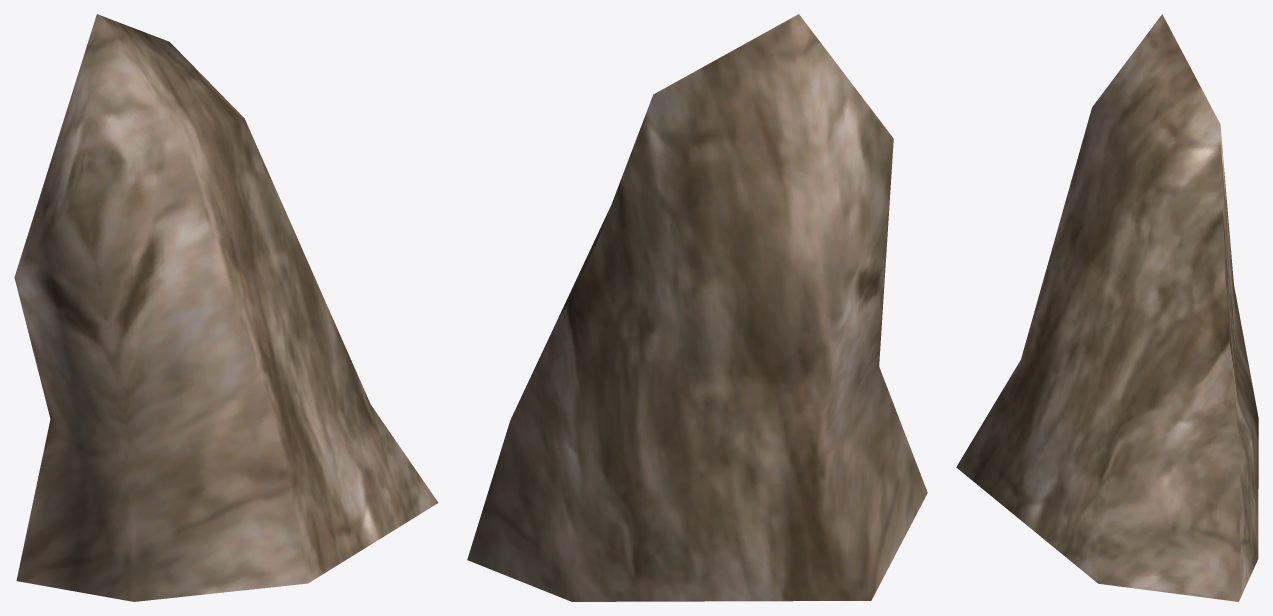
Rendered from OVERHILL_A_01_ROCK37.fbx.
The picture shows the model from 3 angles, left to right: view 1: azimuth 30°, elevation 25°; view 2: azimuth 150°, elevation 25°; view 3: azimuth 270°, elevation 25°; orthographic projection. The views are drawn at different scales.
Parts seen in each view (by area): view 1: OVERHILL_A_01_ROCK37; view 2: OVERHILL_A_01_ROCK37; view 3: OVERHILL_A_01_ROCK37.
Part boxes in pixels (x1=…): OVERHILL_A_01_ROCK37: x1=14, y1=14, x2=438, y2=601; OVERHILL_A_01_ROCK37: x1=467, y1=14, x2=927, y2=601; OVERHILL_A_01_ROCK37: x1=956, y1=14, x2=1258, y2=601.
Size of the model in its own units: 35492 by 51307 by 29418.
1 material, 1 textured.
